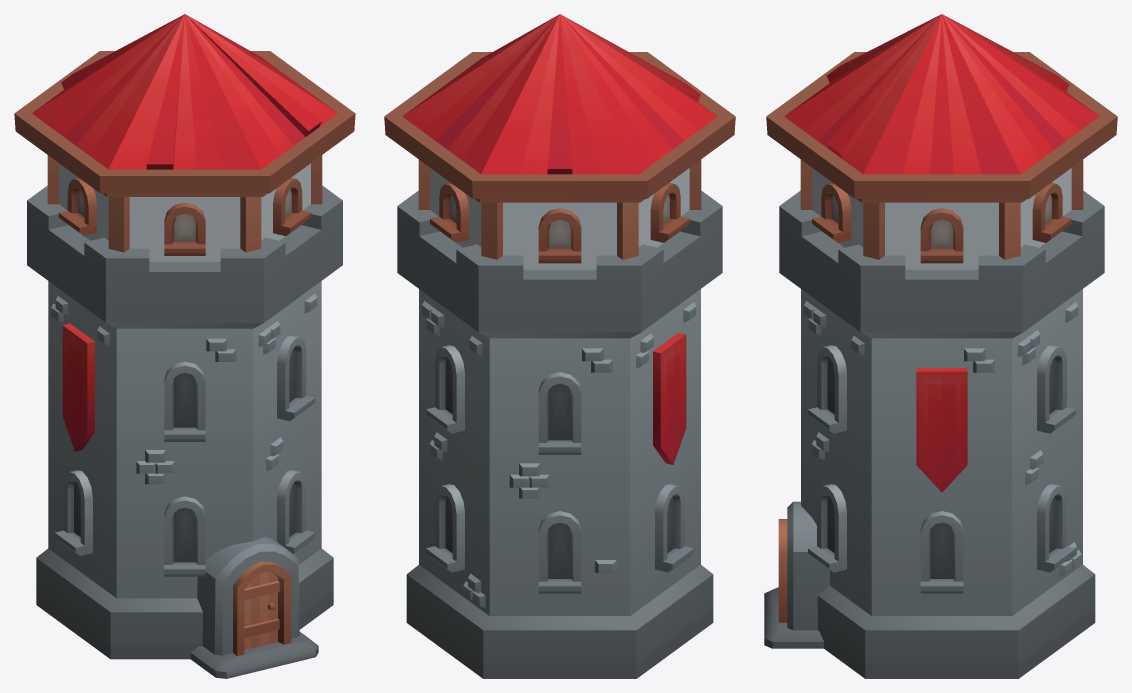
File: tower_A_red.glb
3 views of the same model, side by side, from view 1: azimuth 30°, elevation 25°; view 2: azimuth 150°, elevation 25°; view 3: azimuth 270°, elevation 25° (orthographic). The views are drawn at different scales.
Parts seen in each view (by area): view 1: building_tower_A_red, building_tower_A_top_red; view 2: building_tower_A_red, building_tower_A_top_red; view 3: building_tower_A_red, building_tower_A_top_red.
Boxes of the visible parts, x1=… form: building_tower_A_red: x1=27, y1=185, x2=342, y2=678; building_tower_A_top_red: x1=14, y1=14, x2=355, y2=261; building_tower_A_red: x1=397, y1=190, x2=722, y2=678; building_tower_A_top_red: x1=384, y1=14, x2=735, y2=269; building_tower_A_red: x1=764, y1=190, x2=1104, y2=678; building_tower_A_top_red: x1=766, y1=14, x2=1117, y2=269.
Bounding box in the file's own units: 0.9933 × 2.19 × 1.15.
1 material, 1 textured.
